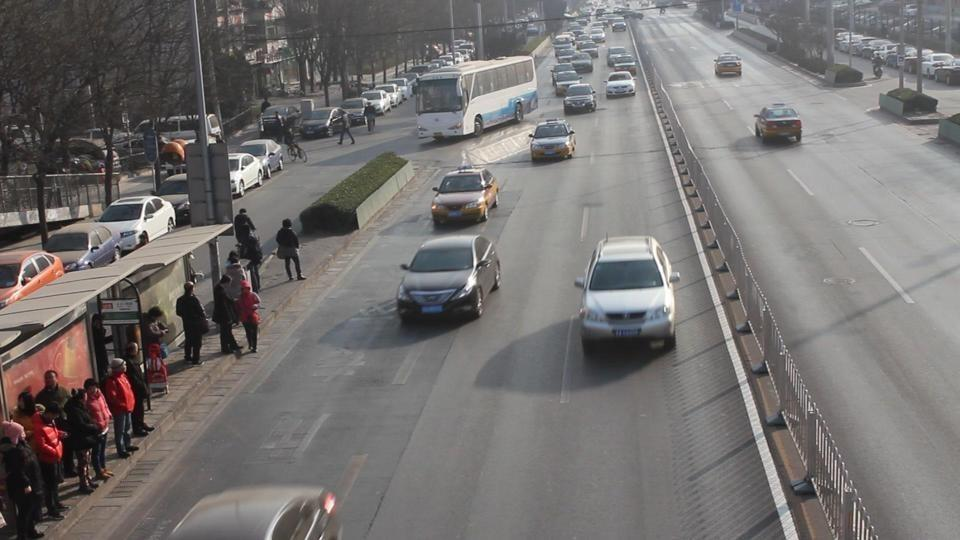car: (574, 235, 680, 350), (167, 482, 342, 539), (396, 233, 502, 322), (162, 151, 263, 200), (93, 195, 176, 252), (430, 167, 499, 227), (0, 249, 64, 310), (44, 222, 121, 272), (753, 102, 804, 144), (528, 120, 577, 163), (154, 176, 193, 225), (234, 139, 284, 177), (300, 105, 352, 139), (229, 153, 264, 197), (564, 83, 597, 114), (921, 53, 959, 78), (551, 65, 581, 96), (360, 89, 397, 114), (605, 71, 637, 99), (713, 53, 743, 79), (607, 47, 637, 70)
